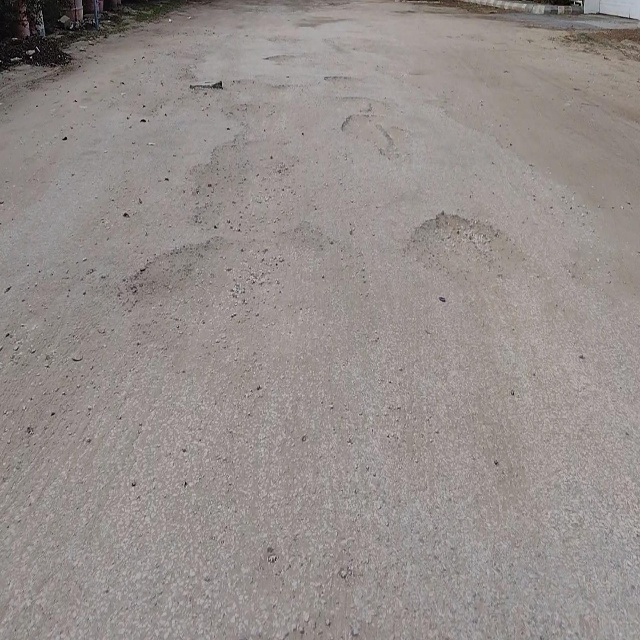pothole: (406, 209, 515, 292), (340, 114, 394, 162)
